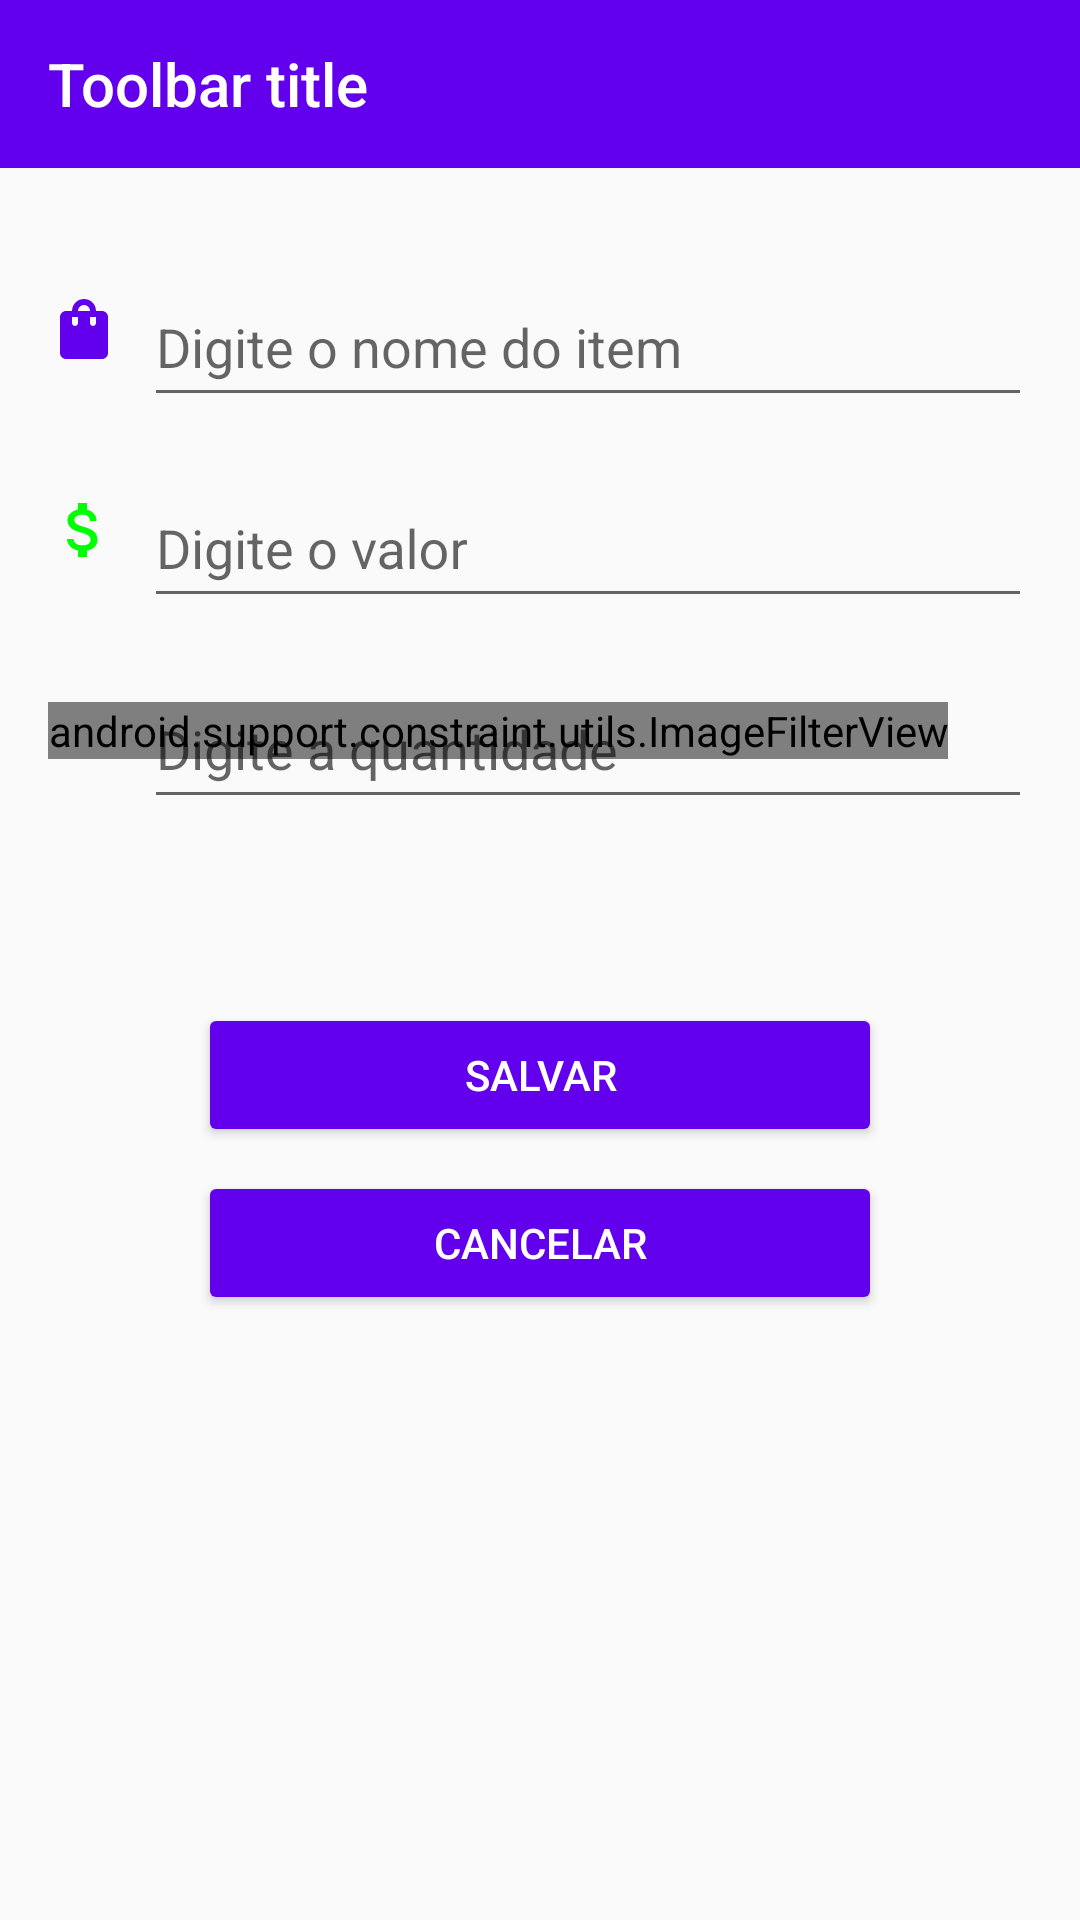

Where icons sit on this 1080x1920 app screen, as detection(x1, y1, x2, y2):
attach money: detection(67, 503, 98, 557)
shopping bag: detection(60, 299, 108, 359)
